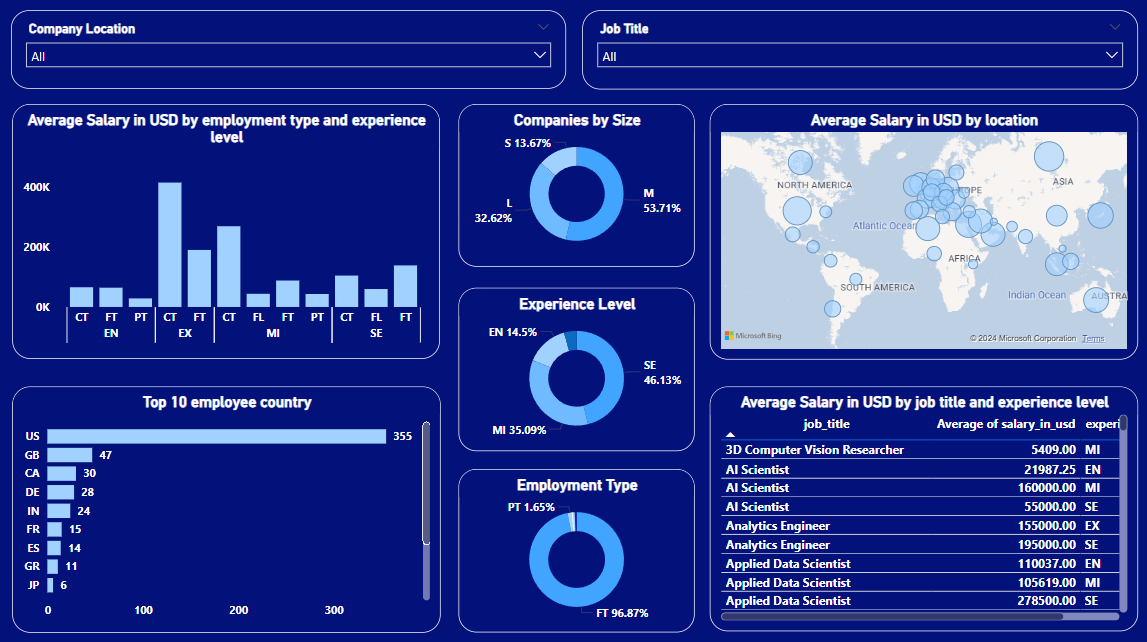

The page's visual inventory and layout, read from the dashboard file:
{"tool":"powerbi","page":{"name":"Page 1","canvas":[1280,720],"ordinal":0},"visuals":[{"type":"slicer","fields":{"Values":["ds_salaries.company_location"]},"box":[17,12.5,617,87.5],"z":0},{"type":"slicer","fields":{"Values":["ds_salaries.job_title"]},"box":[651.5,12.1,617.7,88.1],"z":1000},{"type":"donutChart","title":"Companies by Size","fields":{"Category":["ds_salaries.company_size"],"Y":["CountNonNull(ds_salaries.company_size)"]},"box":[513.9,116.7,262.5,180.6],"z":2000},{"type":"donutChart","title":"Employment Type","fields":{"Category":["ds_salaries.employment_type"],"Y":["CountNonNull(ds_salaries.employment_type)"]},"box":[513.9,522.2,262.5,181.9],"z":3000},{"type":"donutChart","title":"Experience Level","fields":{"Category":["ds_salaries.experience_level"],"Y":["CountNonNull(ds_salaries.experience_level)"]},"box":[513.9,320.8,262.5,181.9],"z":4000},{"type":"columnChart","title":"Average Salary in USD by employment type and experience level","fields":{"Category":["ds_salaries.experience_level","ds_salaries.employment_type"],"Y":["Avg(ds_salaries.salary_in_usd)"]},"box":[18.1,117,475.3,283.5],"z":4001},{"type":"map","title":"Average Salary in USD by location","fields":{"Size":["Avg(ds_salaries.salary_in_usd)"],"Category":["ds_salaries.company_location"]},"box":[793.3,117.3,476,284],"z":4002},{"type":"clusteredBarChart","title":"Top 10 employee country","fields":{"Category":["ds_salaries.company_location"],"Y":["CountNonNull(ds_salaries.company_location)"]},"box":[18.1,430.6,476.4,273.6],"z":4003},{"type":"tableEx","title":"Average Salary in USD by job title and experience level","fields":{"Values":["ds_salaries.job_title","Avg(ds_salaries.salary_in_usd)","ds_salaries.experience_level"]},"box":[793.1,430.6,476.4,272.2],"z":4004}]}

Visuals, with their boxes in screenshot pixels (x1, y1, x2, y2), scaled from the page's 1280x720 canvas onto the 1147x642 screenshot:
slicer - ds_salaries.company_location: Rect(15, 11, 568, 89)
slicer - ds_salaries.job_title: Rect(584, 11, 1137, 89)
"Companies by Size" donutChart: Rect(461, 104, 696, 265)
"Employment Type" donutChart: Rect(461, 466, 696, 628)
"Experience Level" donutChart: Rect(461, 286, 696, 448)
"Average Salary in USD by employment type and experience level" columnChart: Rect(16, 104, 442, 357)
"Average Salary in USD by location" map: Rect(711, 105, 1137, 358)
"Top 10 employee country" clusteredBarChart: Rect(16, 384, 443, 628)
"Average Salary in USD by job title and experience level" tableEx: Rect(711, 384, 1138, 627)
